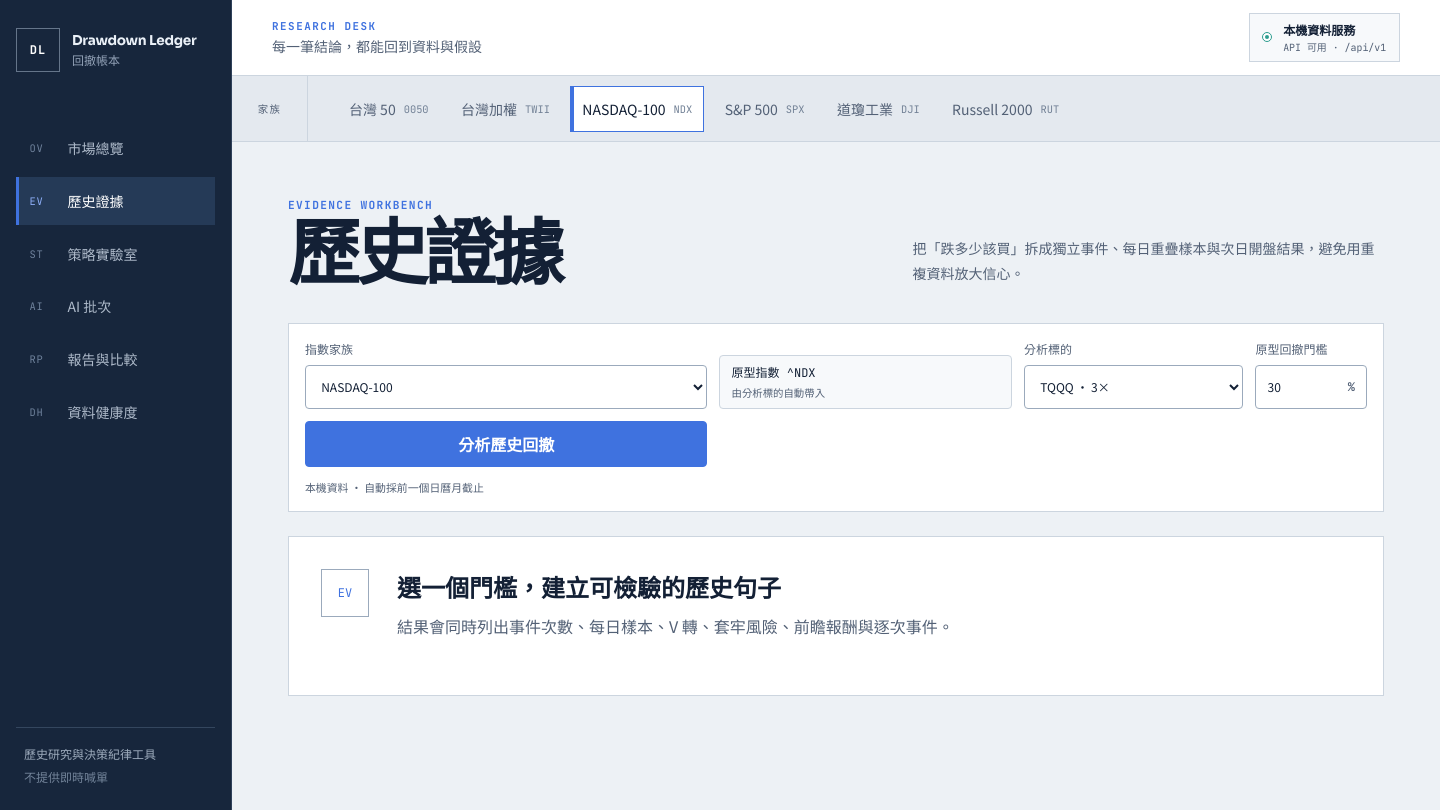
Test case: historical evidence workbench › separates overlapping days from independent episodes and states the actionable result
Click the button "分析歷史回撤" at [506, 444], box [305,420,707,467]
(page scrolled)
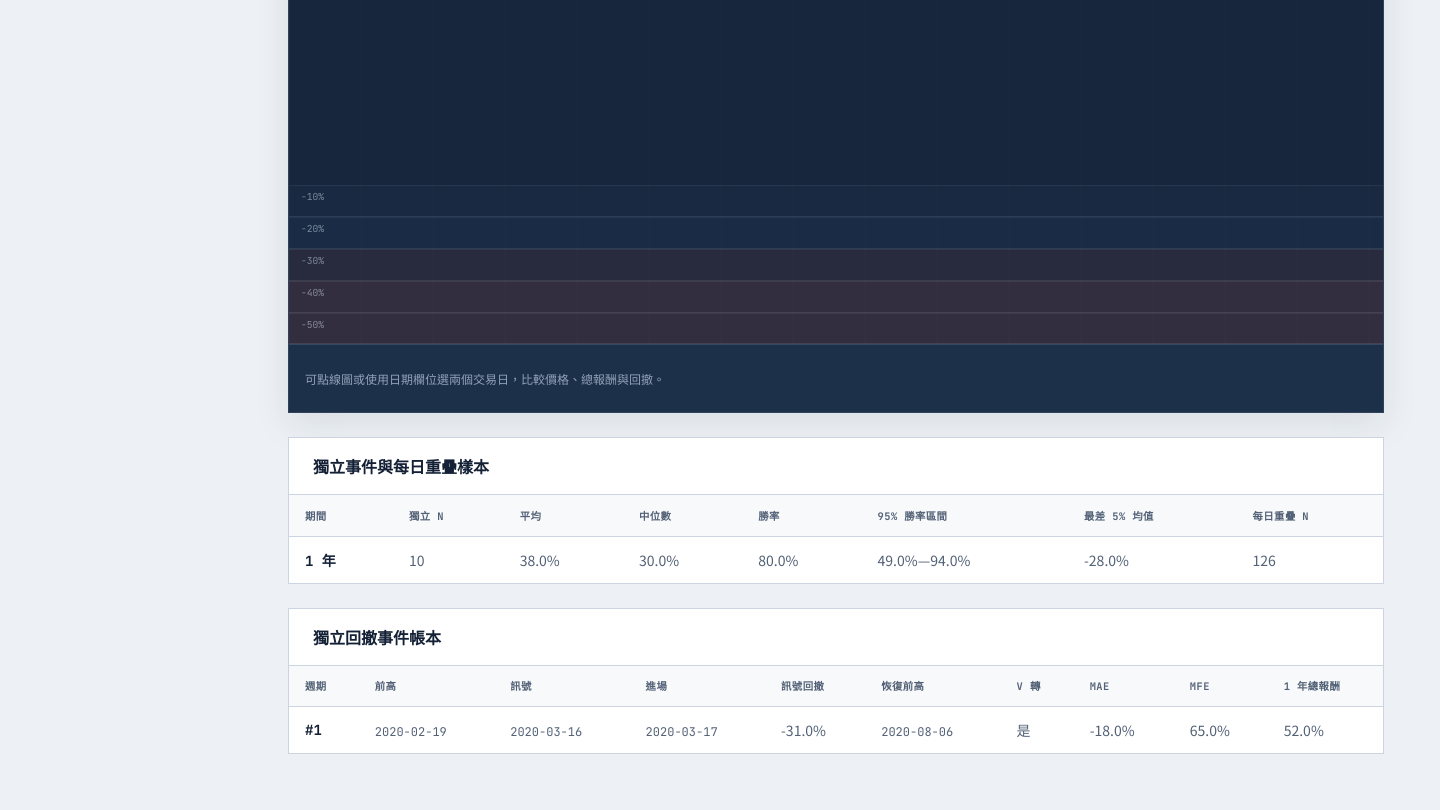
Result: the table "獨立回撤事件" is shown at [289,609,1383,753]
